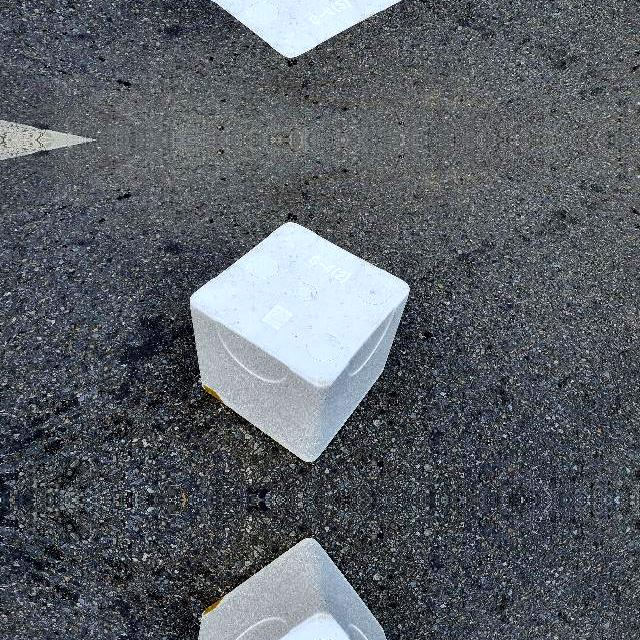Styrofoam: (190, 221, 410, 465), (190, 223, 410, 461), (190, 535, 409, 640), (198, 539, 386, 640), (190, 0, 409, 59)
